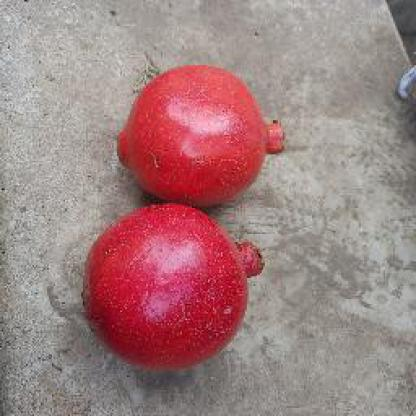pomegranate: (81, 203, 263, 369), (118, 64, 286, 206)
